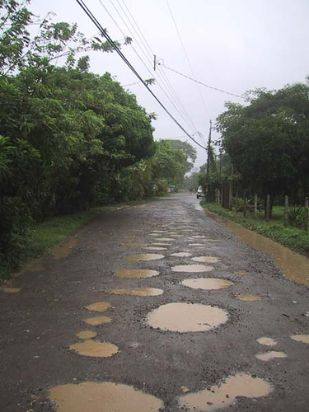pothole: (169, 364, 278, 412), (44, 378, 167, 412), (140, 298, 233, 334), (70, 327, 124, 362), (176, 274, 237, 291), (109, 284, 165, 297), (253, 349, 290, 365), (166, 261, 215, 273), (79, 310, 115, 325), (118, 251, 166, 261), (79, 301, 115, 313), (189, 252, 218, 264), (252, 335, 281, 346)
